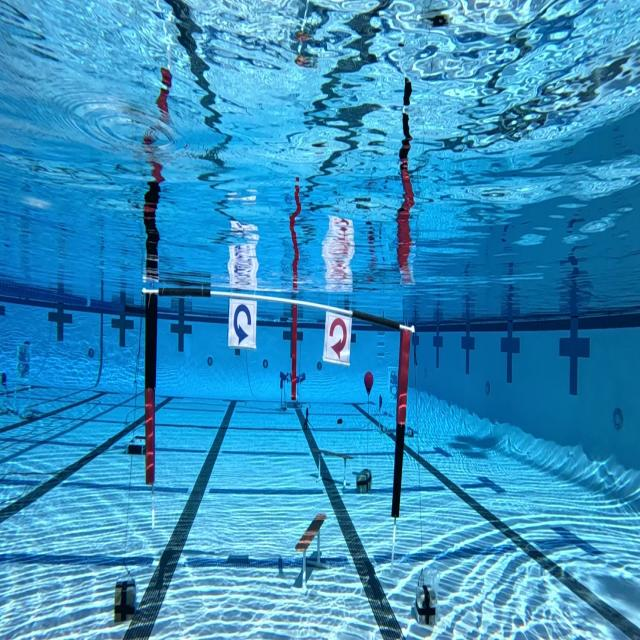blue_side: (228, 295, 255, 346)
red_side: (325, 307, 353, 364)
